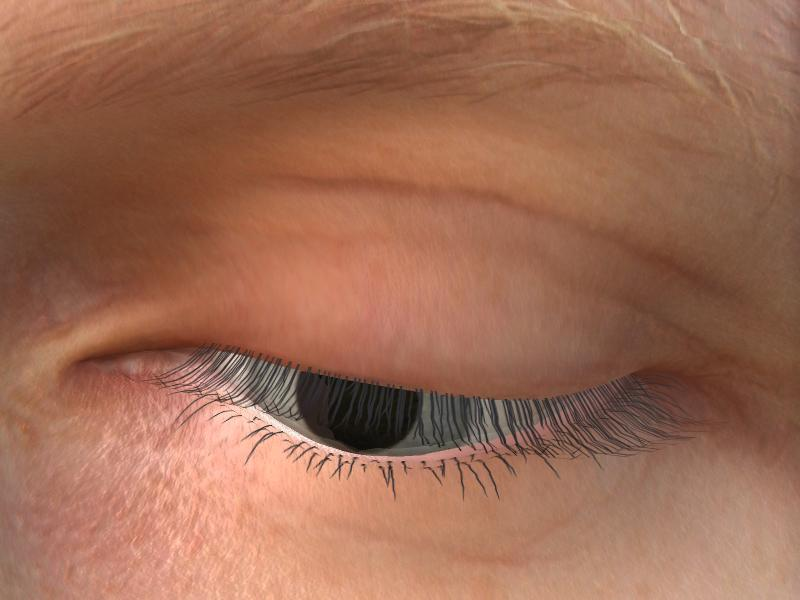eye: (249, 354, 476, 465)
